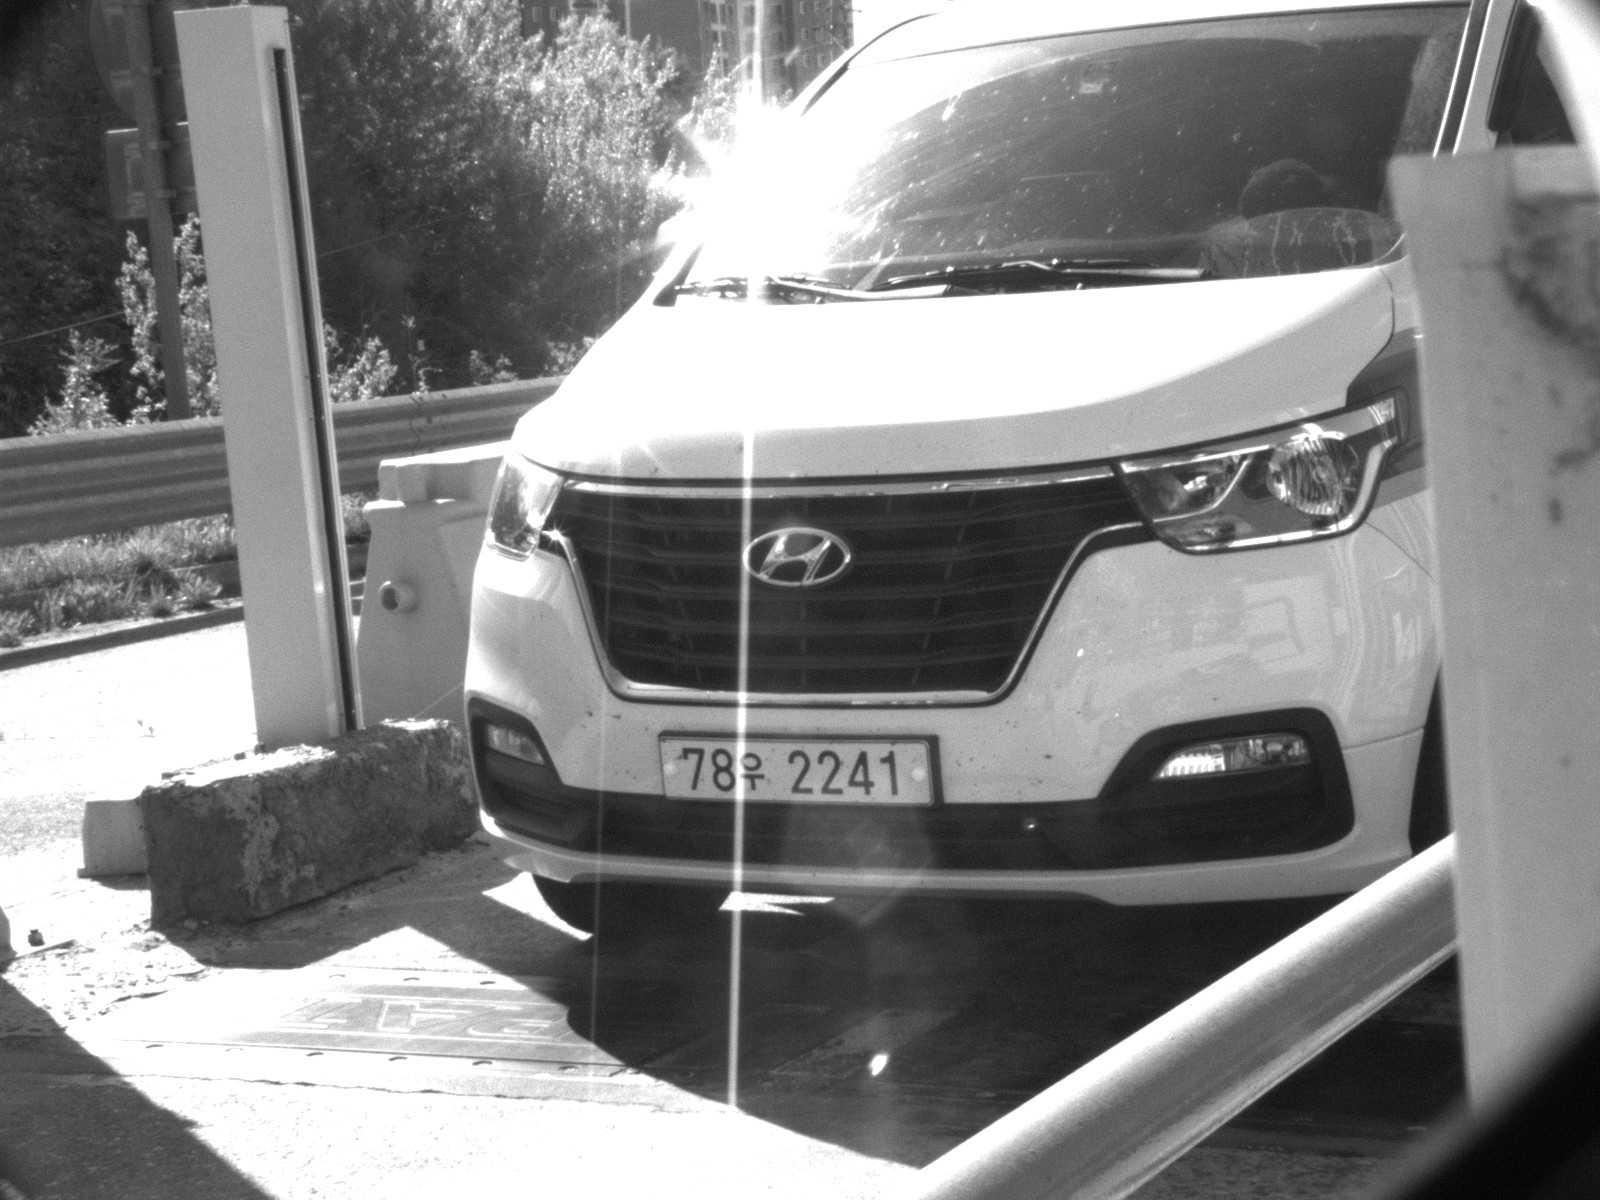car: (459, 1, 1600, 950)
plate: (655, 729, 946, 812)
